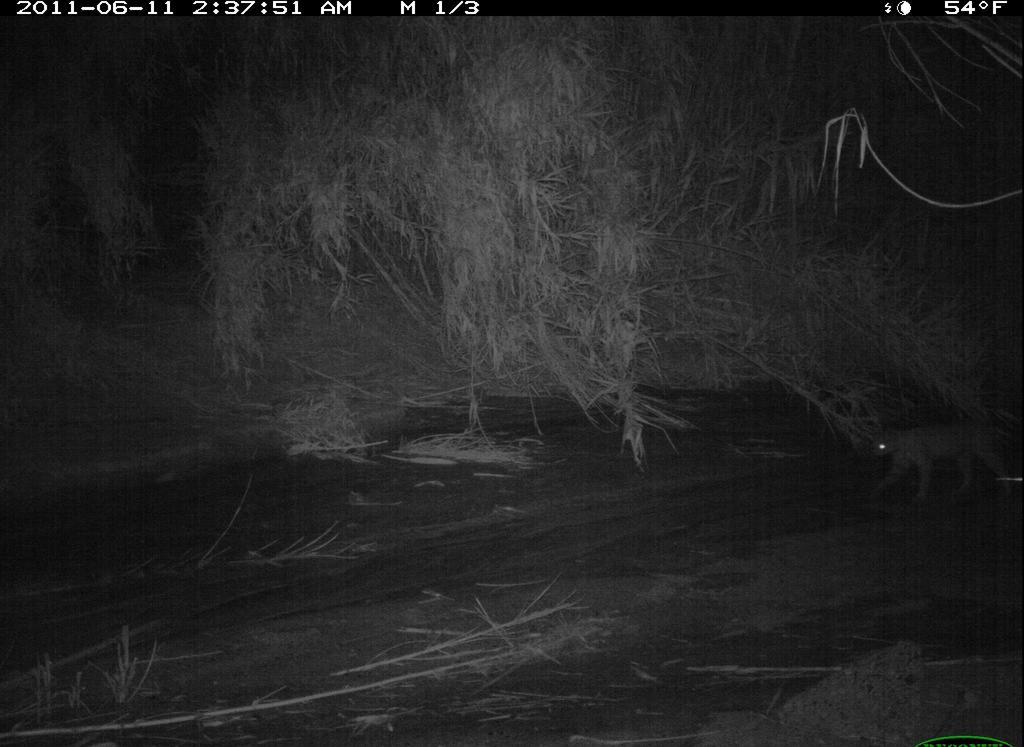bobcat: (859, 402, 1022, 521)
